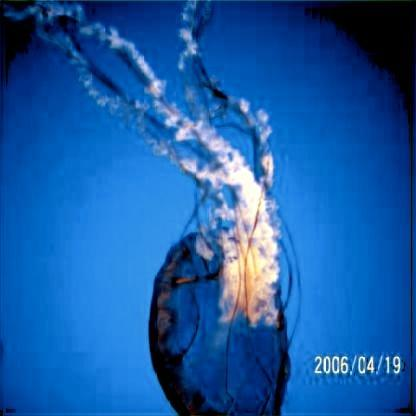Dressed: (150, 21, 290, 410)
